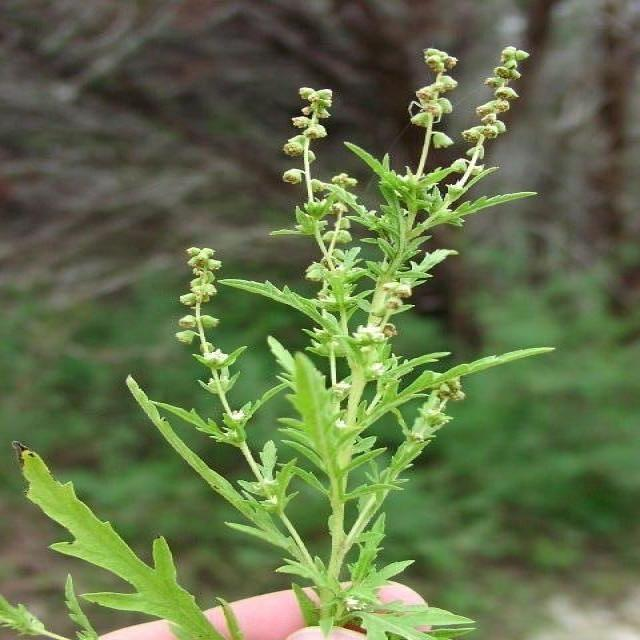ambrosia: (232, 39, 526, 460)
